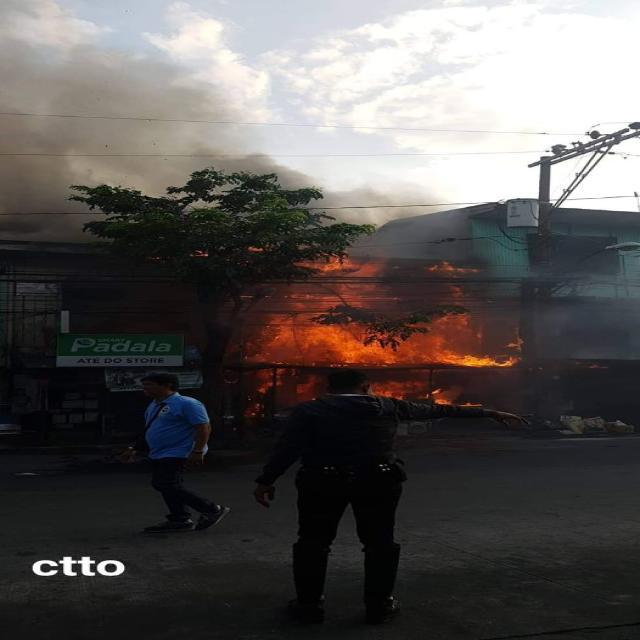Fire: (255, 258, 518, 374)
Smoke: (0, 44, 259, 170), (3, 170, 88, 247)
